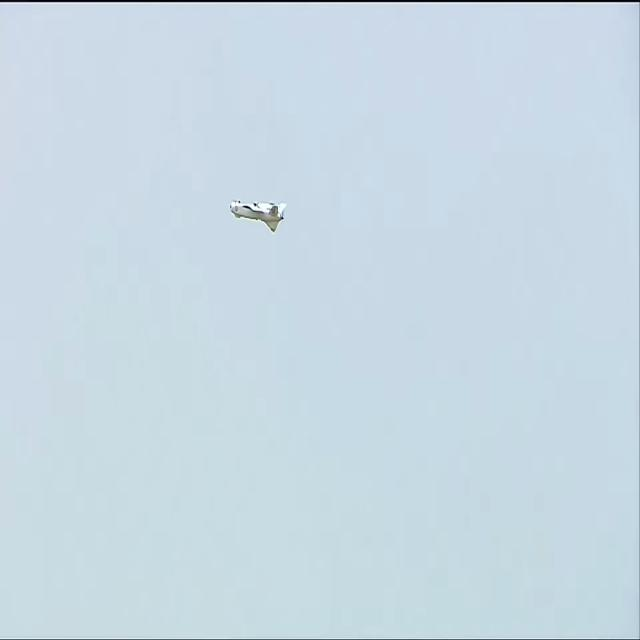iha: (229, 199, 289, 234)
